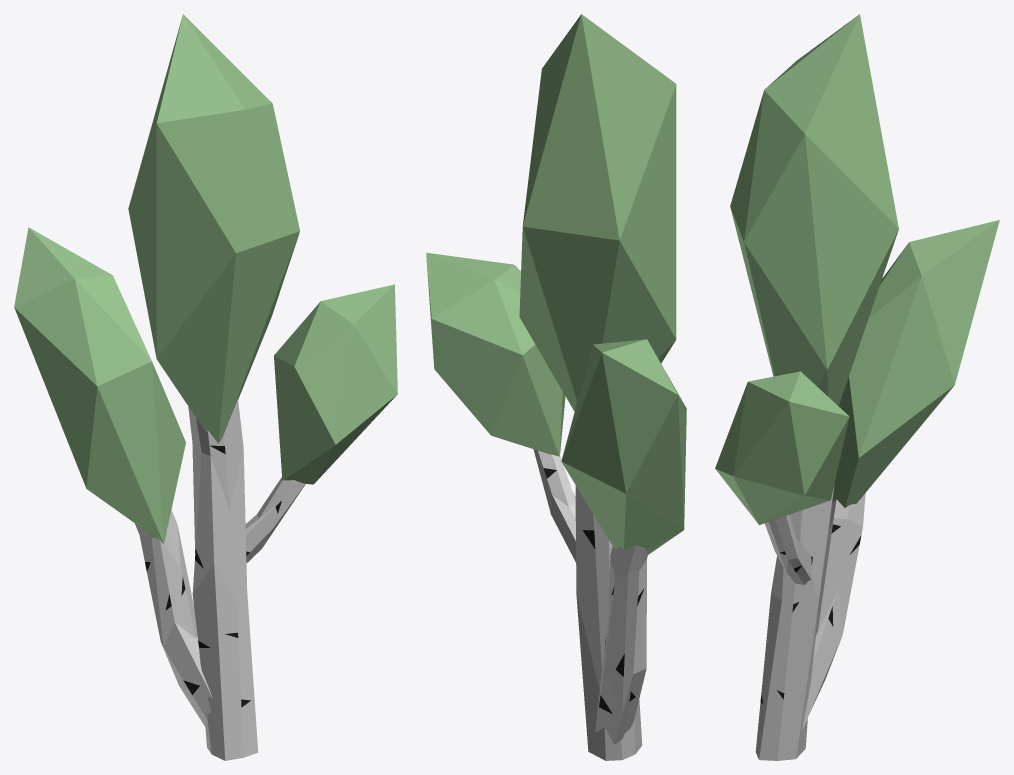
The model's file is BirchTree2.fbx.
3 views of the same model, side by side, from view 1: azimuth 30°, elevation 25°; view 2: azimuth 150°, elevation 25°; view 3: azimuth 270°, elevation 25° (orthographic). The views are drawn at different scales.
Parts seen in each view (by area): view 1: BirchTree4; view 2: BirchTree4; view 3: BirchTree4.
Boxes of the visible parts, x1,y1,x2,y2 form: BirchTree4: [14, 14, 397, 760]; BirchTree4: [426, 14, 686, 760]; BirchTree4: [715, 14, 999, 760].
Bounding box in the file's own units: 3.94 × 8.71 × 3.07.
